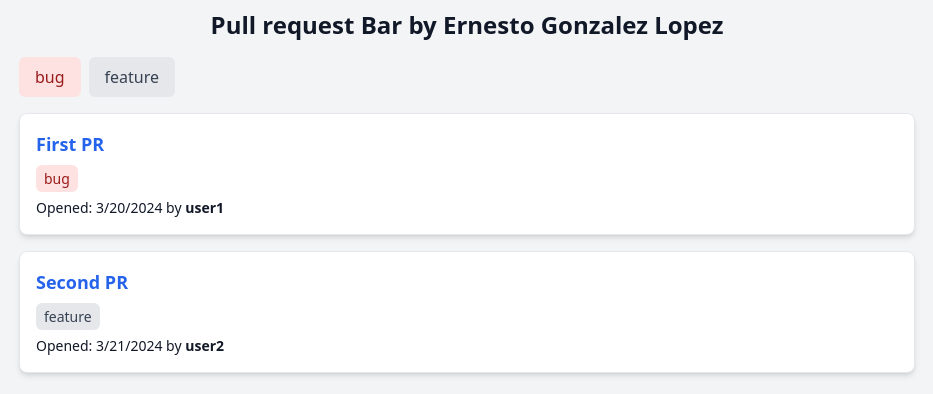
Content › should render pull requests and filter labels
The width and height of the screenshot is (933, 394).
Check: the link "First PR" is shown, box [36, 132, 104, 156]
Check: the link "Second PR" is shown, box [36, 270, 128, 294]
// Test filtering
Click the button "bug" at (50, 77), box [19, 57, 81, 97]
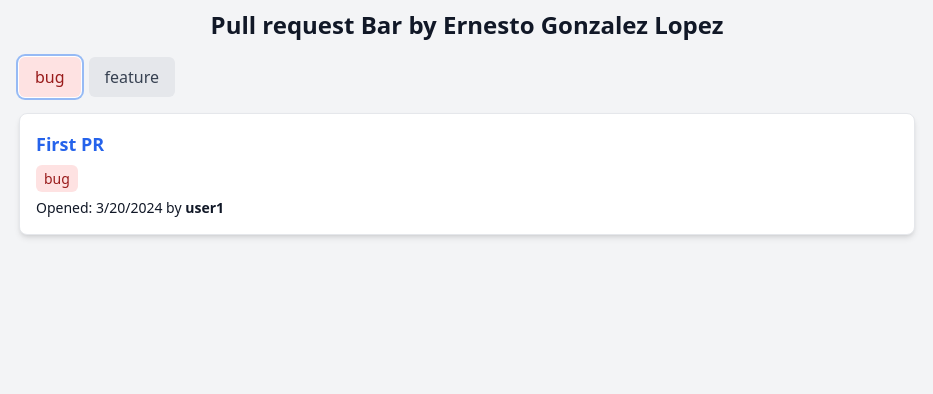
Check: the link "First PR" is shown, box [36, 132, 104, 156]
Check: the link "Second PR" is gone
